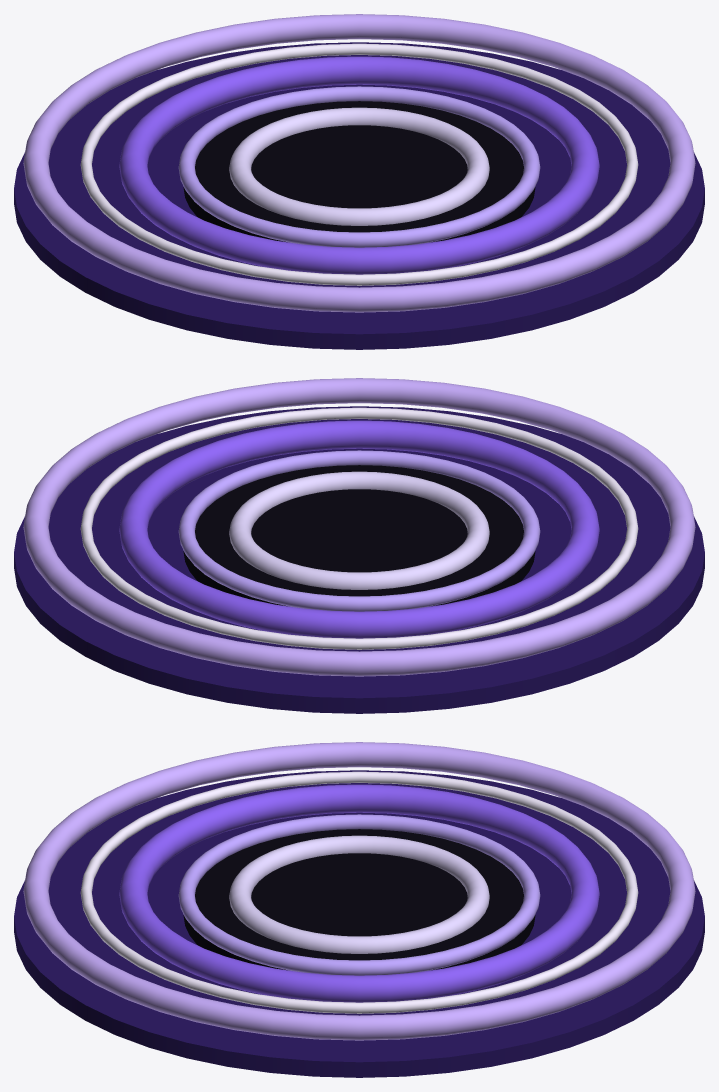
Rendered from SingularityVortex.glb.
The picture shows the model from 3 angles, top to bottom: view 1: azimuth 30°, elevation 25°; view 2: azimuth 150°, elevation 25°; view 3: azimuth 270°, elevation 25°; orthographic projection.
Parts seen in each view (by area): view 1: AbyssBase, HoleRing, OuterSwirl, HoleInner, ShimmerSwirl, MidSwirl, InnerSwirl; view 2: AbyssBase, HoleRing, OuterSwirl, HoleInner, ShimmerSwirl, MidSwirl, InnerSwirl; view 3: AbyssBase, HoleRing, OuterSwirl, HoleInner, ShimmerSwirl, MidSwirl, InnerSwirl.
Boxes of the visible parts, x1,y1,x2,y2 form: AbyssBase: [14, 42, 704, 349]; HoleRing: [23, 14, 695, 312]; OuterSwirl: [119, 56, 599, 274]; HoleInner: [183, 101, 535, 242]; ShimmerSwirl: [80, 43, 638, 285]; MidSwirl: [178, 86, 540, 247]; InnerSwirl: [229, 107, 489, 225]; AbyssBase: [14, 406, 704, 713]; HoleRing: [23, 378, 695, 676]; OuterSwirl: [119, 420, 599, 638]; HoleInner: [183, 465, 535, 606]; ShimmerSwirl: [80, 407, 638, 649]; MidSwirl: [178, 450, 540, 611]; InnerSwirl: [229, 471, 489, 589]; AbyssBase: [14, 770, 704, 1077]; HoleRing: [23, 742, 695, 1040]; OuterSwirl: [119, 784, 599, 1002]; HoleInner: [183, 829, 535, 970]; ShimmerSwirl: [80, 771, 638, 1013]; MidSwirl: [178, 814, 540, 975]; InnerSwirl: [229, 835, 489, 953].
Size of the model in its own units: 2.2 by 0.1825 by 2.2.
